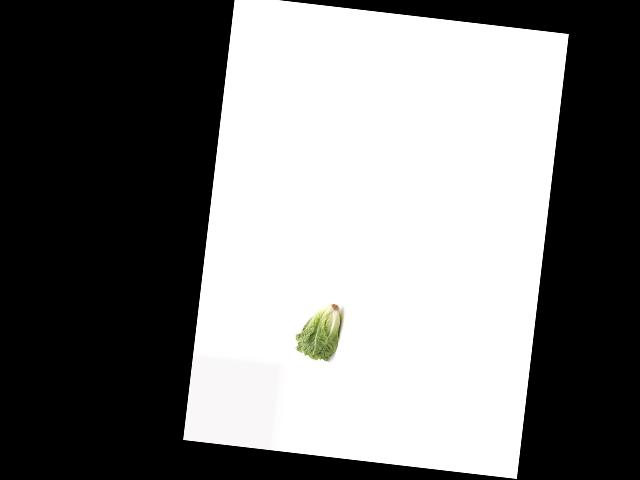lettuce: (293, 297, 344, 362)
